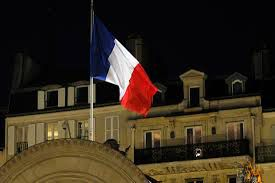French Flag: (91, 13, 158, 117)
